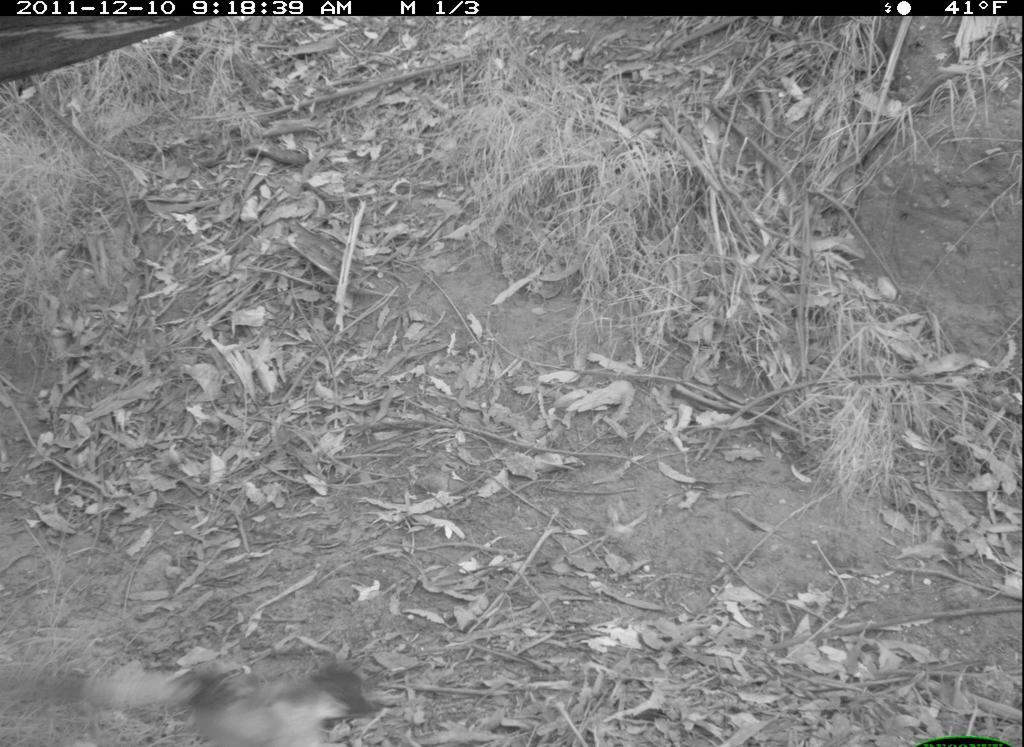bird: (72, 655, 384, 747)
